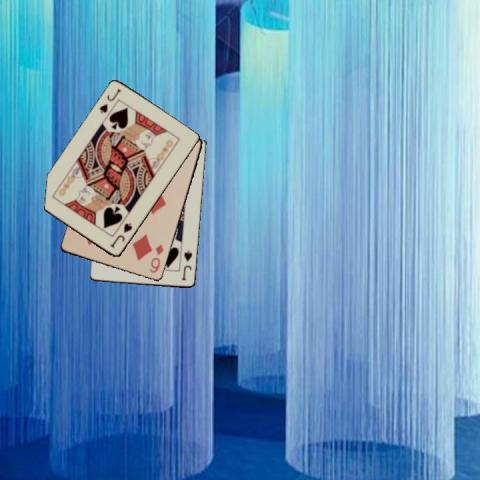6d: (146, 242, 164, 275)
Js: (107, 220, 134, 249), (96, 86, 122, 116), (180, 248, 194, 282)
